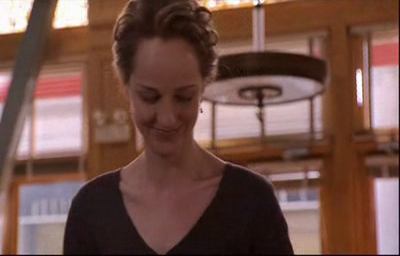face: (129, 51, 201, 159)
mcu: (1, 1, 400, 256)
person: (62, 1, 293, 254)
